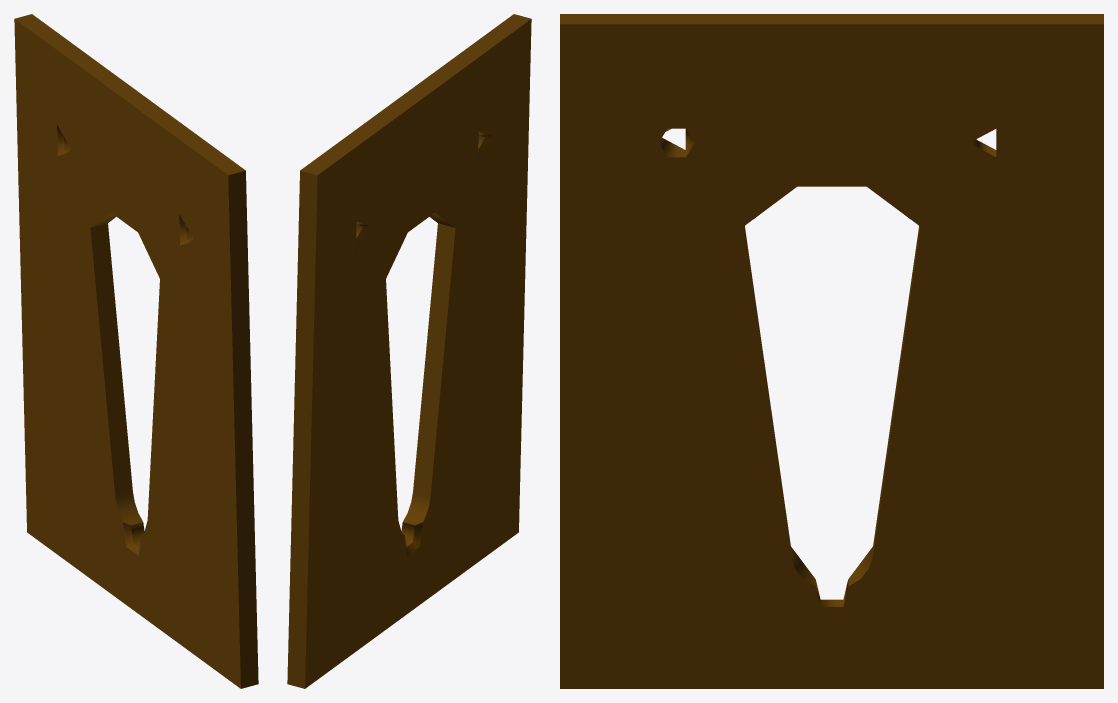
Rendered from Suspension - PlaqueB.obj.
3 renders of one model, left to right at view 1: azimuth 30°, elevation 25°; view 2: azimuth 150°, elevation 25°; view 3: azimuth 270°, elevation 25°, orthographic. The views are drawn at different scales.
Parts seen in each view (by area): view 1: Face_6, Face_2, Face_11, Face_3, Face_10; view 2: Face_6, Face_4, Face_9, Face_3, Face_1; view 3: Face_7, Face_3.
Boxes of the visible parts, x1,y1,x2,y2 form: Face_6: (14,19,240,688); Face_2: (228,170,258,688); Face_11: (90,223,132,496); Face_3: (14,14,245,175); Face_10: (115,492,142,525); Face_6: (305,19,531,688); Face_4: (287,170,317,688); Face_9: (413,223,455,496); Face_3: (300,14,531,175); Face_1: (403,492,430,525); Face_7: (560,24,1103,688); Face_3: (560,14,1103,24).
Bounding box in the file's own units: 0.000859 × 0.014 × 0.0105.
